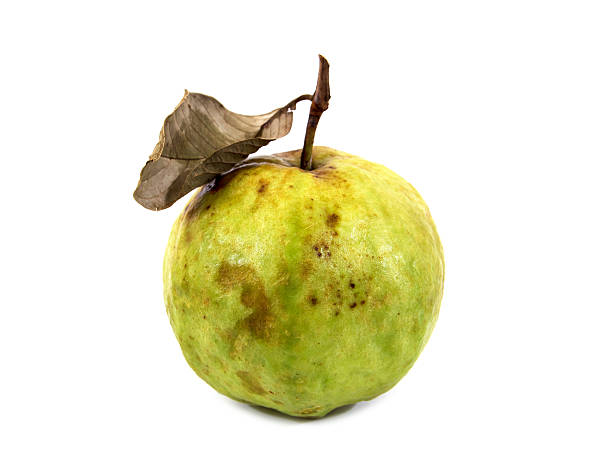guava: (108, 52, 561, 344)
